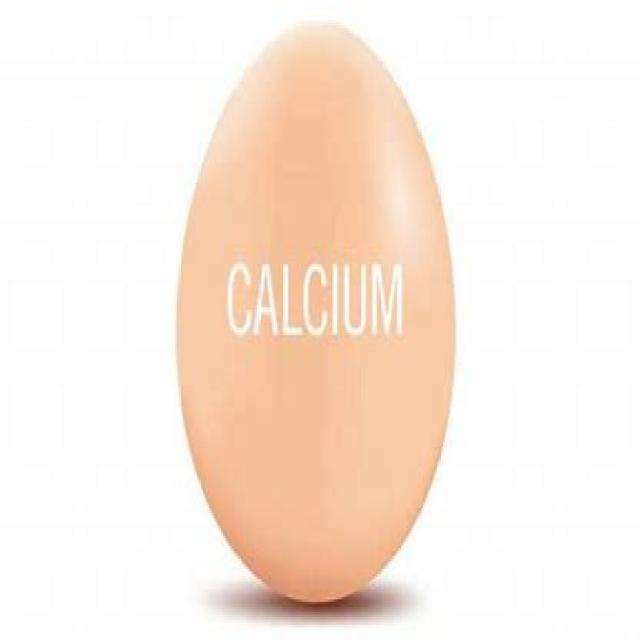Brown Egg: (184, 8, 469, 624)
